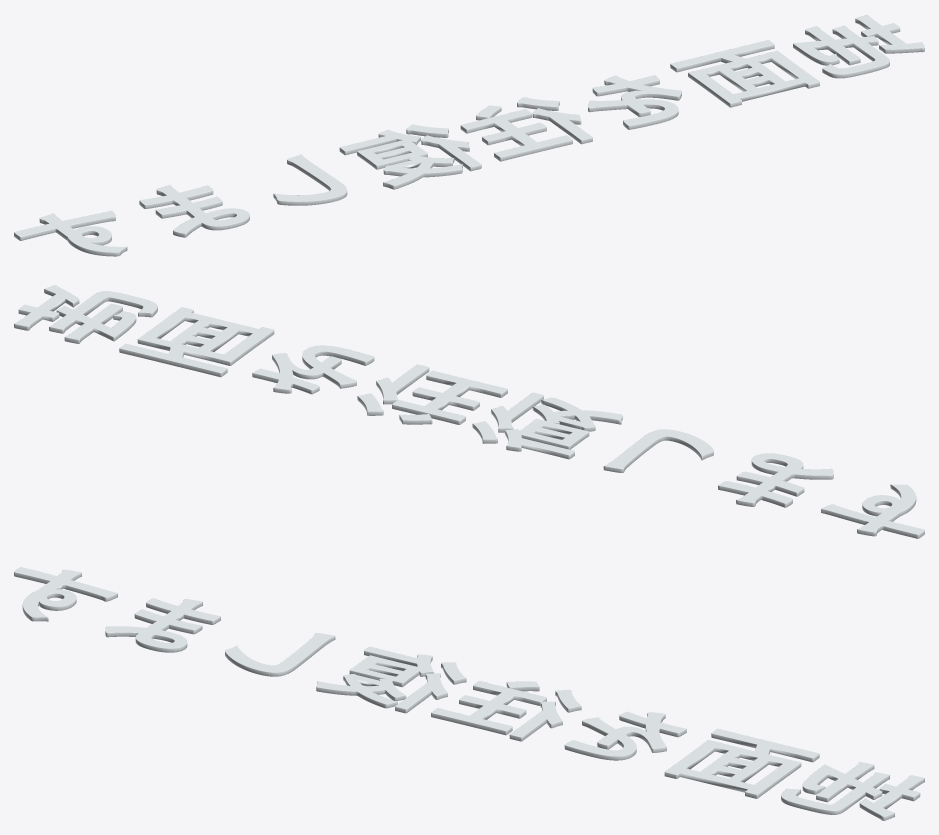
Rendered from stage2_crash_cube_detail.obj.
3 renders of one model, top to bottom at view 1: azimuth 30°, elevation 25°; view 2: azimuth 150°, elevation 25°; view 3: azimuth 330°, elevation 25°, orthographic. The views are drawn at different scales.
Parts seen in each view (by area): view 1: stage2_crash_cube_detail; view 2: stage2_crash_cube_detail; view 3: stage2_crash_cube_detail.
Boxes of the visible parts, x1,y1,x2,y2 form: stage2_crash_cube_detail: [14, 14, 924, 256]; stage2_crash_cube_detail: [14, 285, 924, 538]; stage2_crash_cube_detail: [14, 567, 924, 820].
Bounding box in the file's own units: 4.3 × 0.0194 × 0.504.
1 material, 1 textured.
